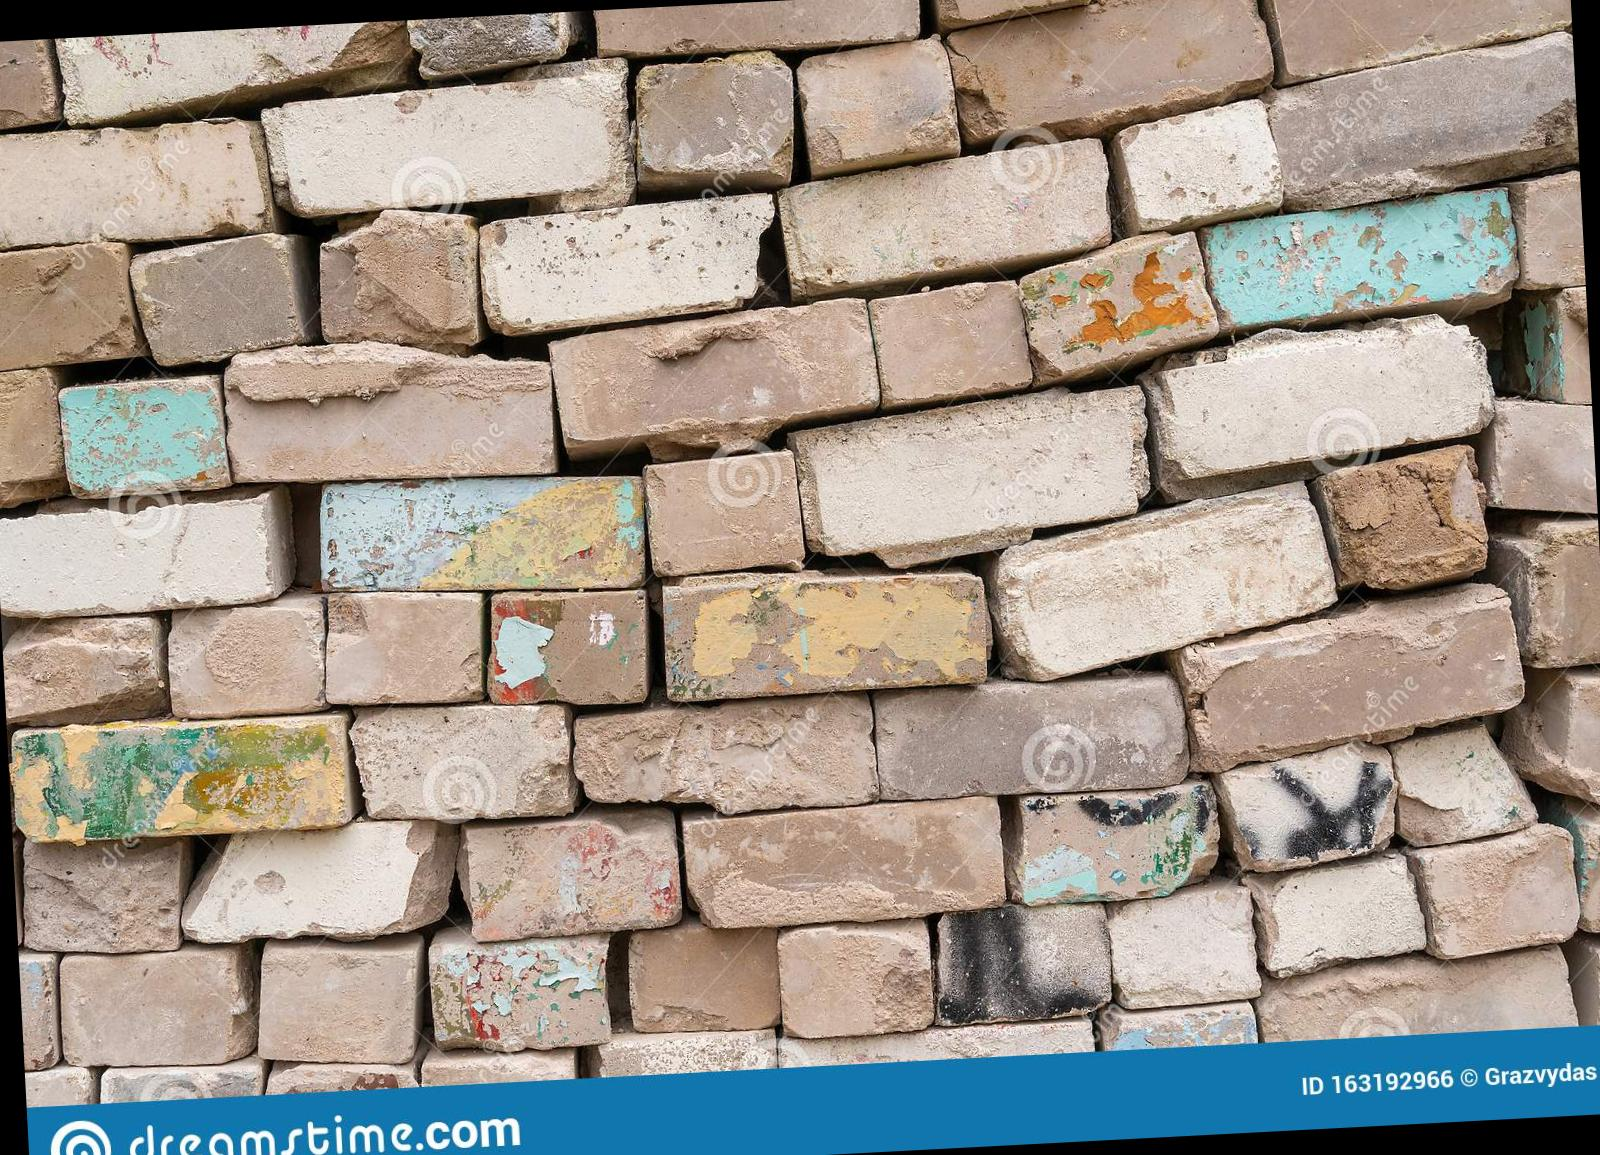brick: (986, 482, 1342, 683), (1142, 310, 1499, 500), (788, 383, 1154, 556), (1181, 589, 1525, 771), (1265, 29, 1581, 211), (776, 135, 1114, 298), (549, 296, 882, 458), (224, 330, 557, 489), (261, 77, 610, 221), (945, 0, 1276, 143), (662, 561, 995, 700), (10, 714, 350, 845), (1199, 188, 1520, 325), (318, 469, 650, 601), (683, 796, 1007, 929), (478, 192, 779, 334), (875, 672, 1191, 802), (573, 691, 877, 821), (56, 20, 410, 124), (176, 818, 461, 944), (0, 119, 272, 248), (0, 493, 276, 618), (1017, 230, 1221, 383), (1257, 946, 1579, 1042), (347, 699, 576, 825), (467, 807, 682, 939), (1261, 0, 1574, 87), (1216, 738, 1401, 873), (1320, 443, 1489, 591), (1017, 786, 1222, 907), (317, 205, 484, 350), (128, 231, 306, 365), (929, 902, 1113, 1027), (796, 36, 961, 175), (1246, 852, 1427, 979), (58, 949, 242, 1072), (1420, 823, 1581, 961), (1117, 98, 1286, 229), (252, 941, 424, 1069), (430, 936, 614, 1056), (634, 51, 796, 185), (58, 375, 231, 499), (870, 278, 1034, 405), (645, 450, 806, 577), (19, 831, 183, 955), (482, 587, 648, 709), (322, 585, 483, 707), (775, 922, 935, 1039), (594, 0, 922, 57), (1106, 889, 1262, 1008), (0, 242, 143, 373), (166, 602, 328, 717), (2, 616, 165, 728), (1390, 724, 1538, 847), (627, 923, 780, 1036), (407, 11, 566, 77)
